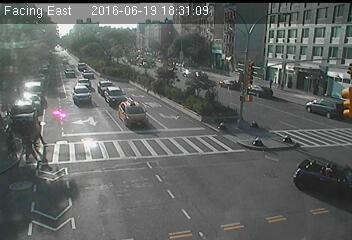neg: (53, 42, 76, 73), (239, 181, 261, 209), (197, 181, 218, 210), (38, 181, 59, 208), (160, 146, 180, 173), (230, 27, 248, 51), (131, 201, 148, 224), (112, 68, 128, 90), (190, 81, 206, 103), (275, 81, 291, 102), (255, 133, 270, 153), (137, 122, 152, 142), (302, 155, 317, 175), (106, 102, 120, 122), (307, 90, 321, 110), (96, 164, 110, 183), (164, 51, 178, 69), (217, 120, 230, 138), (235, 72, 248, 90), (304, 46, 317, 63), (275, 171, 286, 184)
pos: (18, 139, 39, 166), (31, 118, 50, 143)
